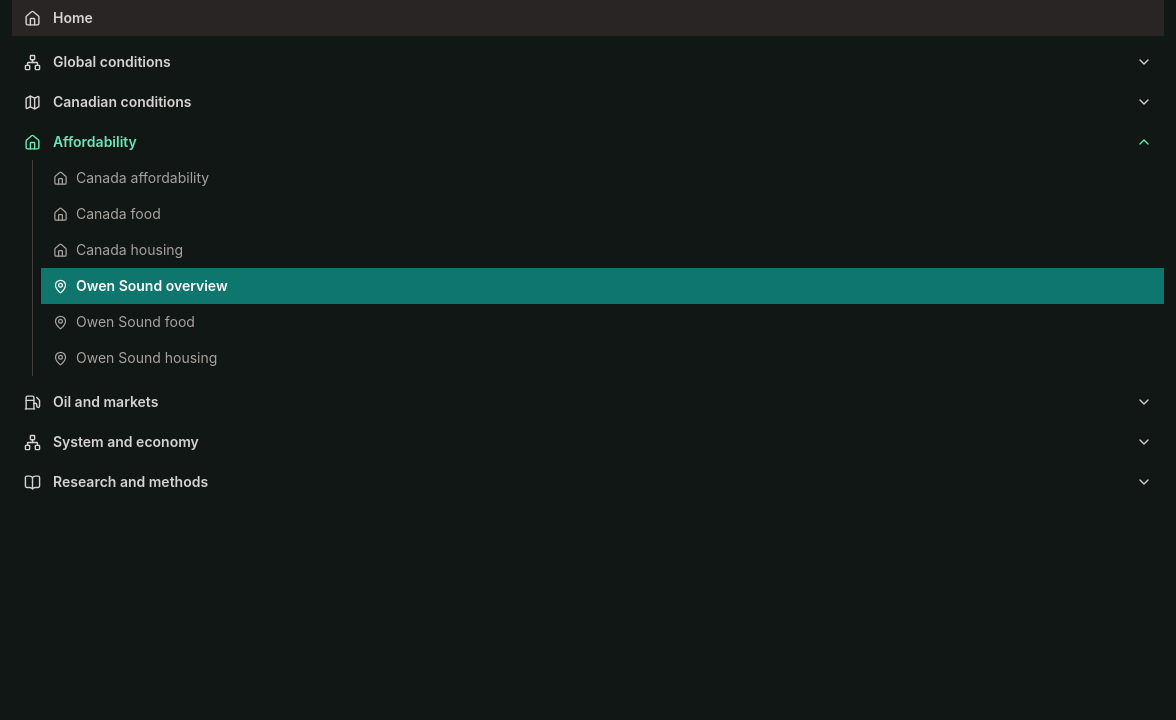
Test case: research navigation › groups destinations and exposes Owen Sound affordability pages
Click the button "Global conditions" at (112, 62), box [12,44,1164,80]
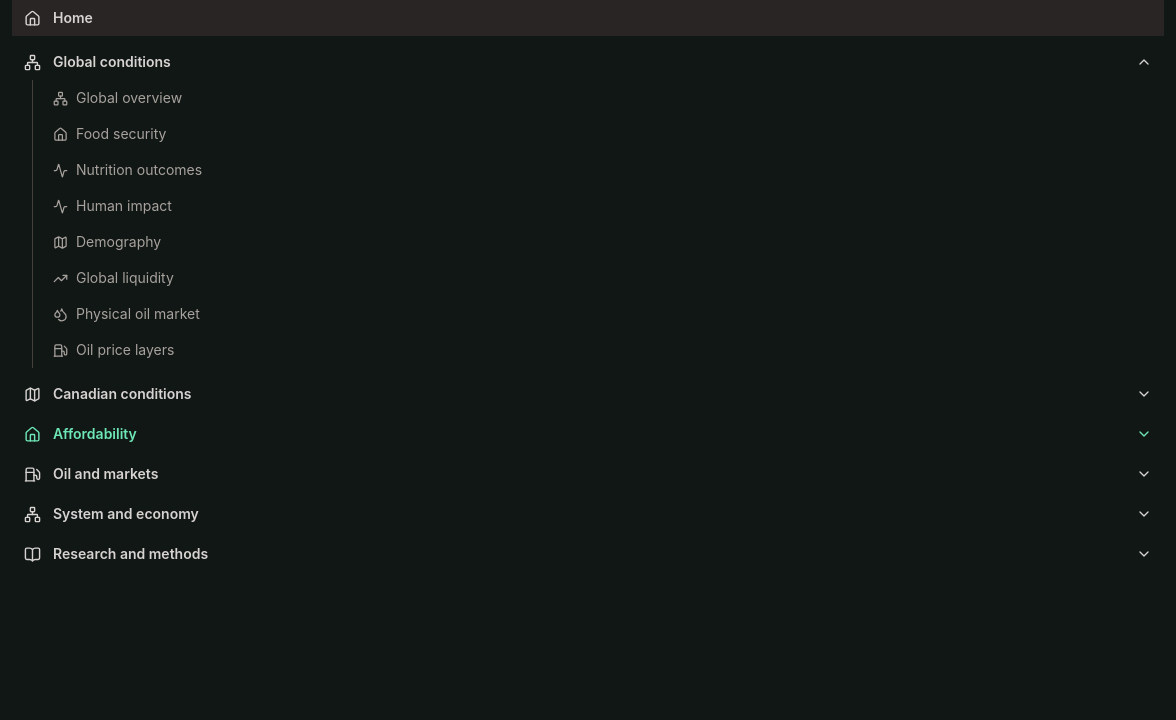
Expected: the link "Global liquidity" is shown, [53,269,174,286]
Expected: the link "Owen Sound overview" is gone
